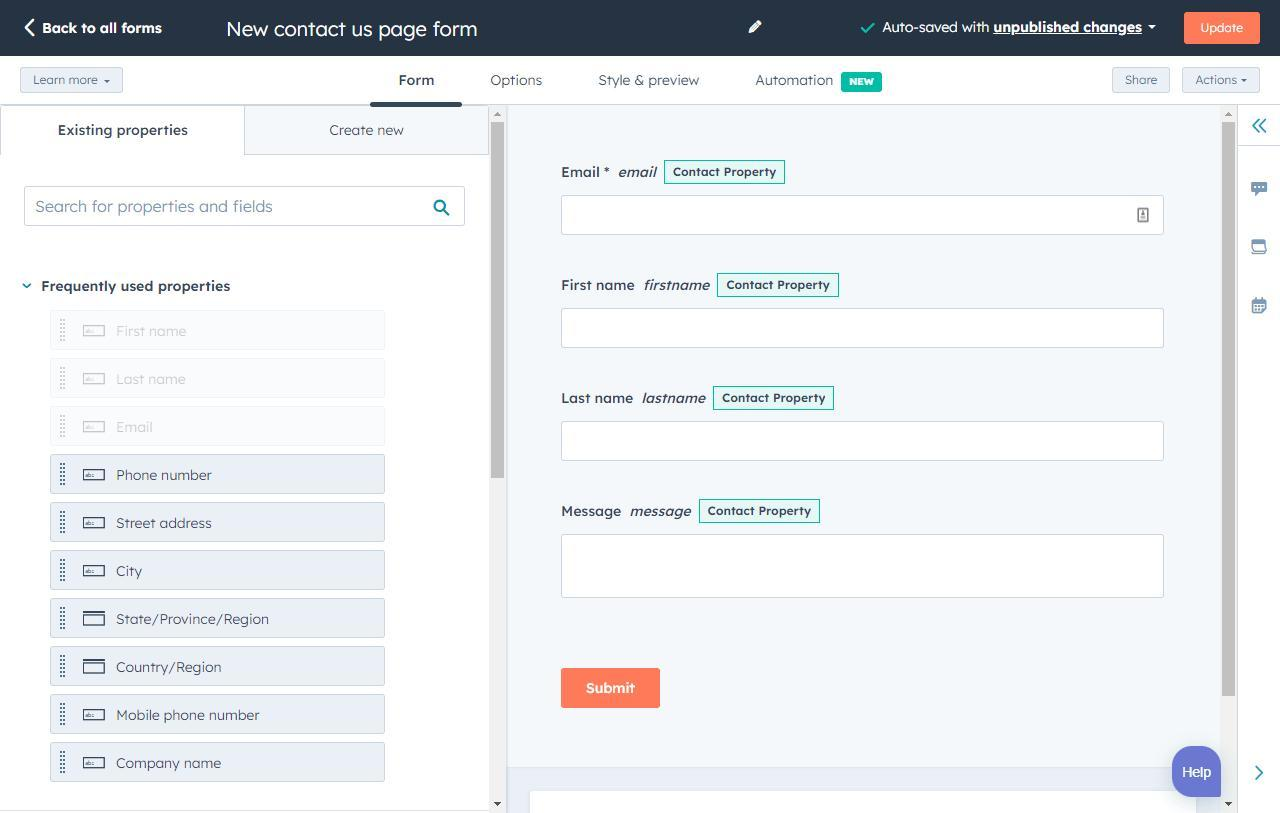button: (1, 104, 247, 154), (249, 105, 490, 153), (367, 57, 464, 108), (559, 669, 661, 712), (1186, 13, 1261, 44), (1114, 65, 1176, 96)
dropdown: (22, 67, 123, 92), (1183, 67, 1260, 94)
icon: (74, 606, 110, 632), (75, 368, 112, 393), (80, 556, 110, 586), (78, 510, 111, 536), (77, 704, 111, 728), (80, 655, 111, 681), (80, 418, 112, 441), (76, 754, 111, 773), (1246, 295, 1271, 321), (84, 319, 111, 343), (1248, 236, 1269, 266), (1249, 173, 1272, 200), (16, 16, 40, 41), (54, 507, 71, 541), (1251, 114, 1273, 140), (80, 464, 108, 484), (55, 315, 72, 347), (55, 413, 72, 444), (56, 460, 72, 492), (55, 604, 70, 637), (58, 750, 73, 781), (57, 653, 72, 683), (57, 556, 70, 589), (56, 699, 69, 732), (856, 21, 882, 36), (59, 359, 69, 397), (746, 17, 764, 35)
input: (562, 537, 1164, 594), (562, 422, 1167, 461), (563, 197, 1162, 236), (561, 309, 1166, 347), (26, 186, 466, 226)
label: (225, 16, 490, 40), (754, 70, 890, 99), (120, 611, 284, 634), (41, 17, 168, 44), (593, 67, 706, 93), (119, 659, 224, 679), (118, 754, 228, 773), (117, 516, 215, 536), (119, 711, 261, 724), (116, 468, 217, 486), (119, 324, 188, 342), (116, 374, 189, 390), (486, 74, 548, 91), (115, 562, 151, 581), (119, 417, 155, 435)
